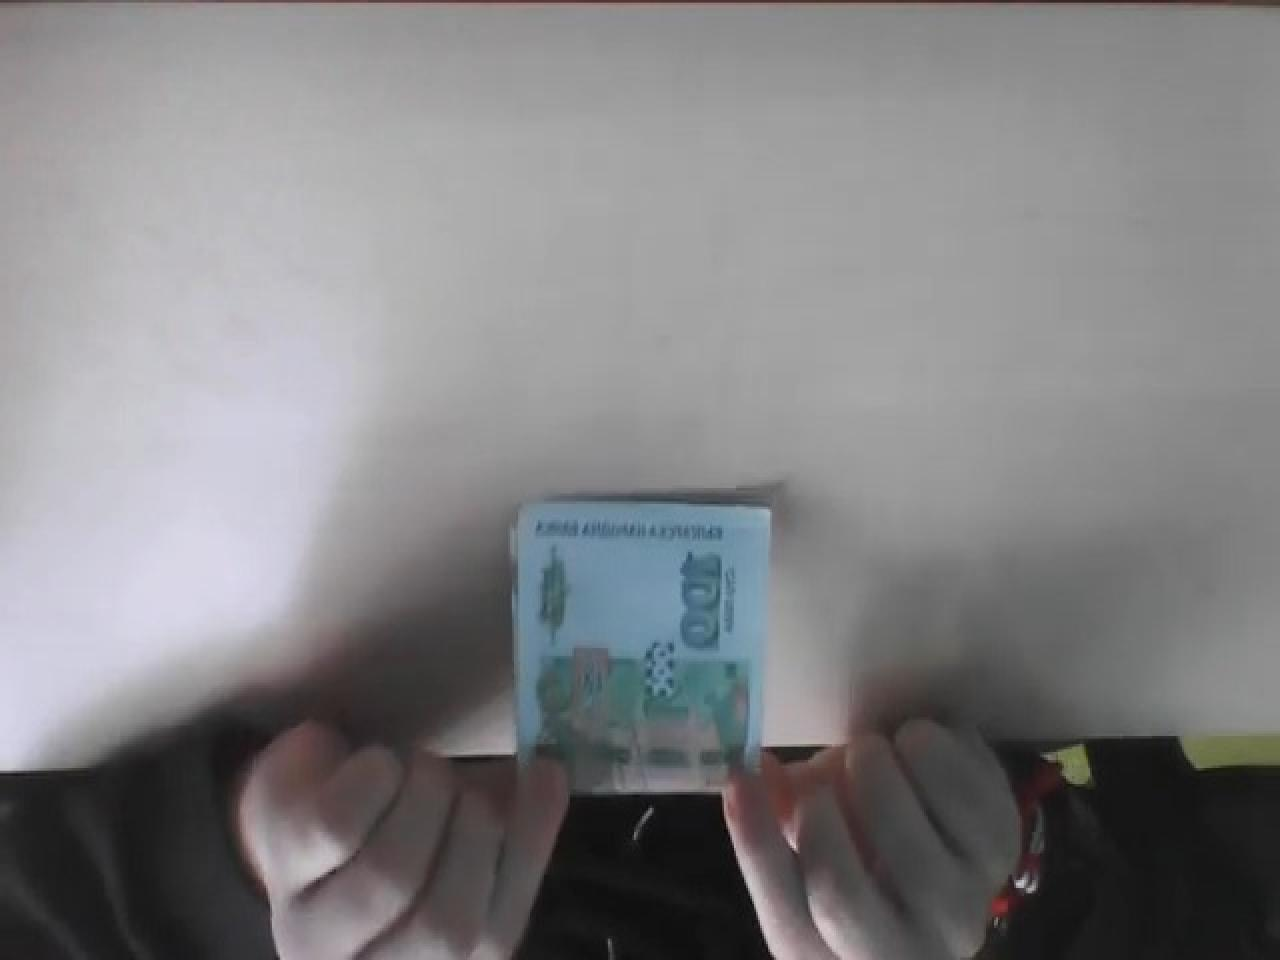100leva: (512, 491, 774, 795)
